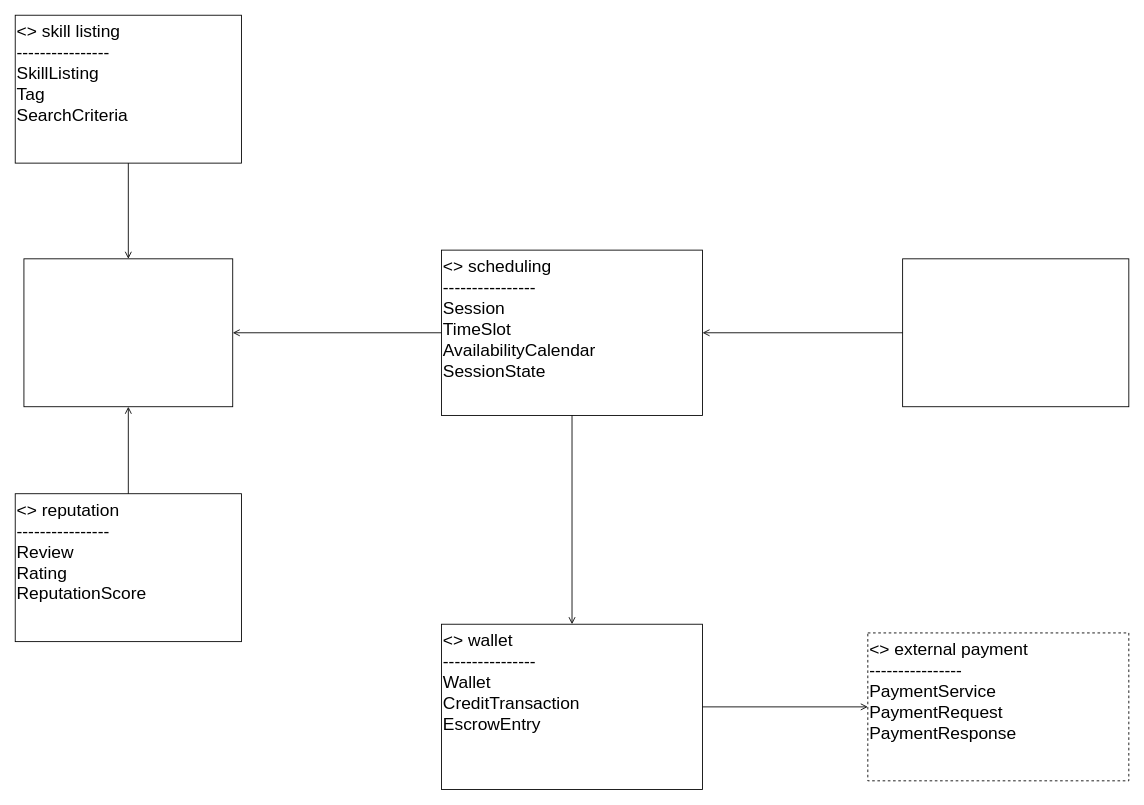
This 1144x805 diagram has some shape labels left out. Each missing label, with the centre of its shape:
"<> communication ---------------- Chat Message Conversation" belongs at pixel 1015 332.
"<> user ---------------- User Profile Credentials RoleContext" belongs at pixel 128 332.
